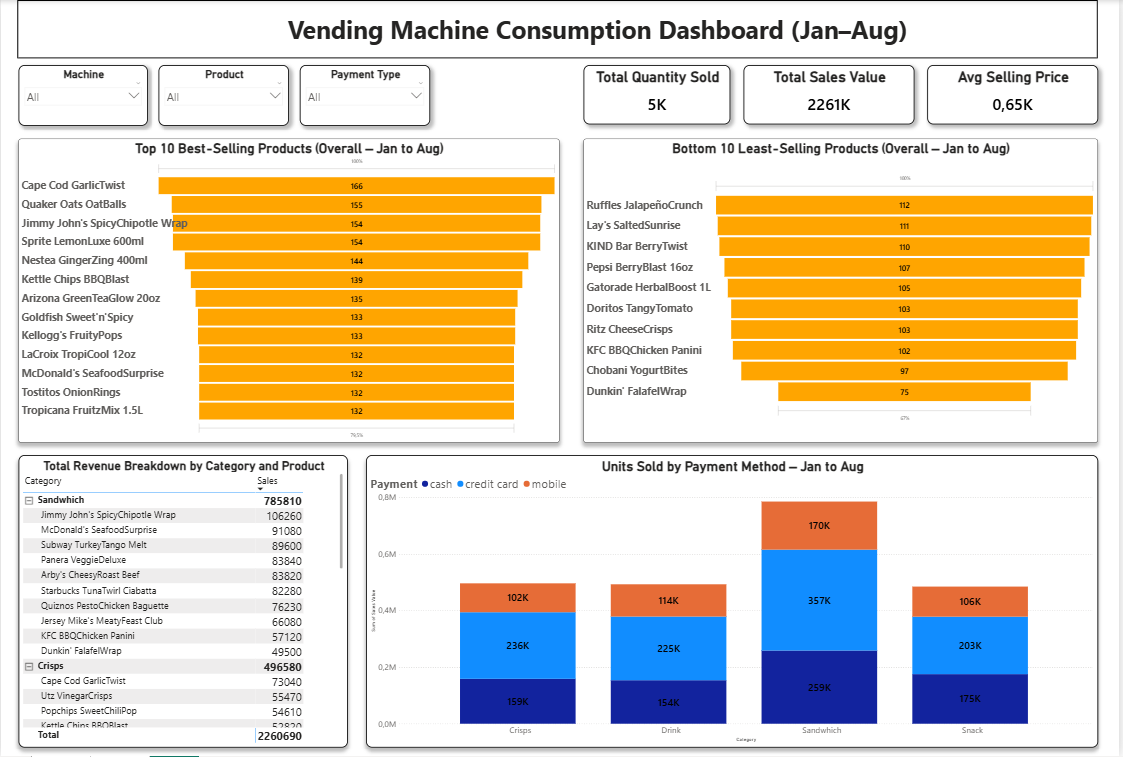

The dashboard page shown, as its layout file describes it:
{"tool":"powerbi","page":{"name":"2","canvas":[3261,2207],"ordinal":1},"visuals":[{"type":"card","title":"Total Quantity Sold","fields":{"Values":["Sum(AllMonthsData.Quantity Sold)"]},"box":[1701.1,188.6,429,173.8],"z":0},{"type":"card","title":"Total Sales Value","fields":{"Values":["Sum(AllMonthsData.Sales Value)"]},"box":[2167.1,188.6,499.2,173.8],"z":1000},{"type":"slicer","title":"Machine","fields":{"Values":["AllMonthsData.Vending Machine"]},"box":[51.8,188.6,377.2,177.5],"z":2000},{"type":"card","title":"Avg Selling Price ","fields":{"Values":["Avg(AllMonthsData.Sales Value)"]},"box":[2703.3,188.6,499.2,173.8],"z":3000},{"type":"pivotTable","title":" Total Revenue Breakdown by Category and Product ","fields":{"Rows":["AllMonthsData.Category","AllMonthsData.Product"],"Values":["Sum(AllMonthsData.Sales Value)"]},"box":[51.8,1327.6,961.5,854.3],"z":4000},{"type":"shape","box":[48.8,0,3154.6,170.6],"z":5000},{"type":"textbox","box":[614.3,34.1,2257.4,107.3],"z":7000},{"type":"slicer","title":"Product","fields":{"Values":["AllMonthsData.Product"]},"box":[458.6,188.6,380.9,177.5],"z":8000},{"type":"slicer","title":"Payment Type","fields":{"Values":["AllMonthsData.Payment"]},"box":[872.7,188.6,380.9,177.5],"z":9000},{"type":"funnel","title":"Top 10 Best-Selling Products (Overall – Jan to Aug)","fields":{"Category":["AllMonthsData.Product"],"Y":["Sum(AllMonthsData.Quantity Sold)"]},"box":[51.8,406.8,1579.1,887.5],"z":10000},{"type":"funnel","title":"Bottom 10 Least-Selling Products (Overall – Jan to Aug)","fields":{"Category":["AllMonthsData.Product"],"Y":["Sum(AllMonthsData.Quantity Sold)"]},"box":[1701.1,406.8,1501.4,887.5],"z":11000},{"type":"columnChart","title":"\tUnits Sold by Payment Method – Jan to Aug","fields":{"Y":["Sum(AllMonthsData.Sales Value)"],"Series":["AllMonthsData.Payment"],"Category":["AllMonthsData.Category","AllMonthsData.Product"]},"box":[1065,1327.6,2137.5,854.3],"z":12000}]}

Visuals, with their boxes in screenshot pixels (x1, y1, x2, y2), scaled from the page's 3261x2207 canvas onto the 1123x757 screenshot:
"Total Quantity Sold" card: x1=586, y1=65, x2=734, y2=124
"Total Sales Value" card: x1=746, y1=65, x2=918, y2=124
"Machine" slicer: x1=18, y1=65, x2=148, y2=126
"Avg Selling Price " card: x1=931, y1=65, x2=1103, y2=124
" Total Revenue Breakdown by Category and Product " pivotTable: x1=18, y1=455, x2=349, y2=748
shape: x1=17, y1=0, x2=1103, y2=59
textbox: x1=212, y1=12, x2=989, y2=49
"Product" slicer: x1=158, y1=65, x2=289, y2=126
"Payment Type" slicer: x1=301, y1=65, x2=432, y2=126
"Top 10 Best-Selling Products (Overall – Jan to Aug)" funnel: x1=18, y1=140, x2=562, y2=444
"Bottom 10 Least-Selling Products (Overall – Jan to Aug)" funnel: x1=586, y1=140, x2=1103, y2=444
"	Units Sold by Payment Method – Jan to Aug" columnChart: x1=367, y1=455, x2=1103, y2=748
